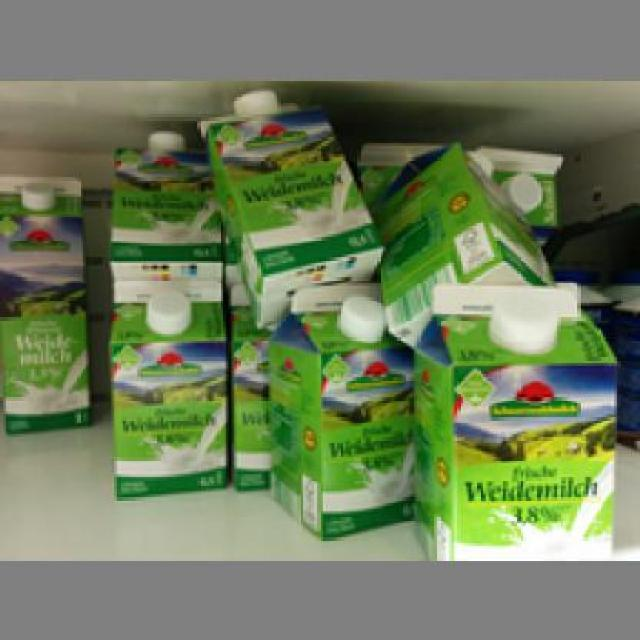Milk: (408, 277, 618, 557), (188, 80, 386, 303), (257, 280, 414, 540), (90, 257, 226, 500), (0, 161, 95, 432), (106, 120, 223, 263)
